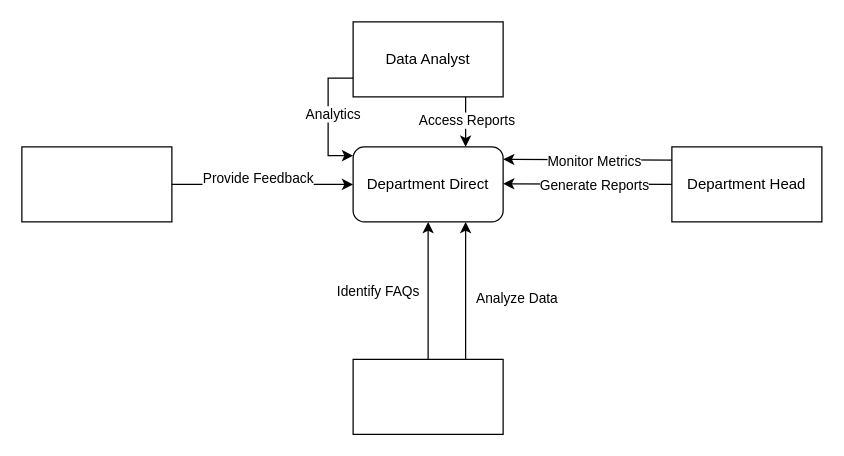
Image size: 844x456. Some labels were removed from this diagram. Each missing label, with the centre of its shape:
"Admin" goes at pixel 427 396.
"Future Applicant" goes at pixel 96 184.
